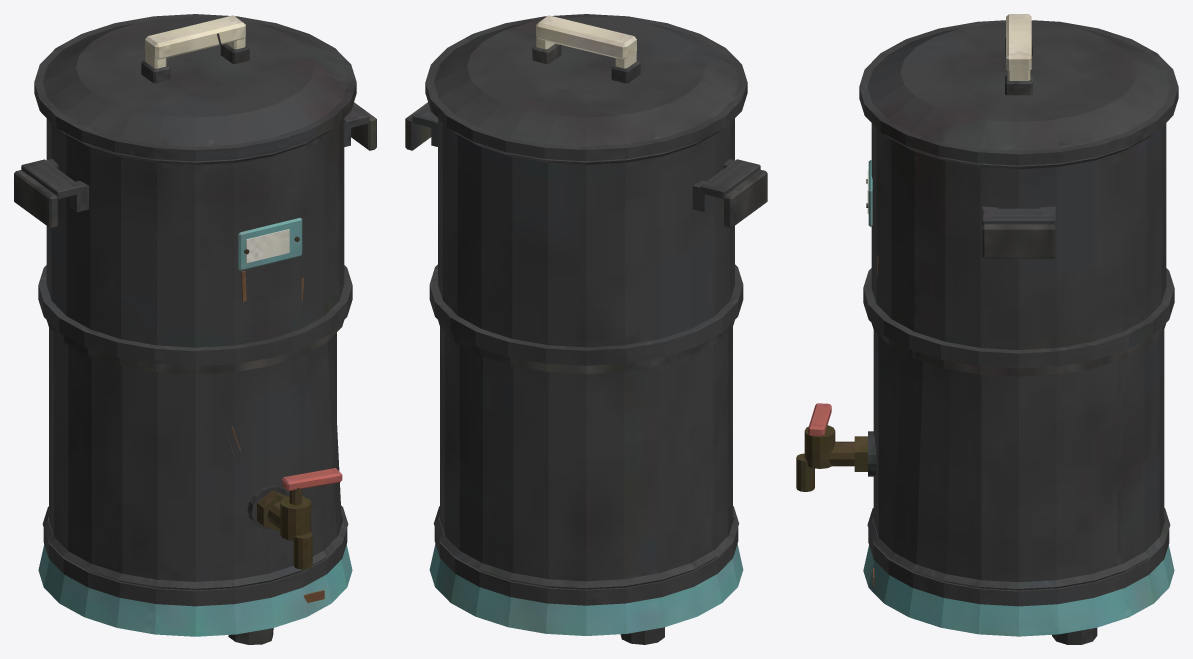
File: K17_water_filter.glb
The picture shows the model from 3 angles, left to right: view 1: azimuth 30°, elevation 25°; view 2: azimuth 150°, elevation 25°; view 3: azimuth 270°, elevation 25°; orthographic projection.
Visible parts, largest first — view 1: Aged rubber foot 0; view 2: Aged rubber foot 0; view 3: Aged rubber foot 0.
Boxes of the visible parts, bbox=[...] form: Aged rubber foot 0: bbox=[14, 14, 376, 644]; Aged rubber foot 0: bbox=[405, 14, 767, 644]; Aged rubber foot 0: bbox=[796, 14, 1178, 644].
Size of the model in its own units: 0.3631 by 0.6 by 0.3701.
Materials: 8 (8 with a texture image).
